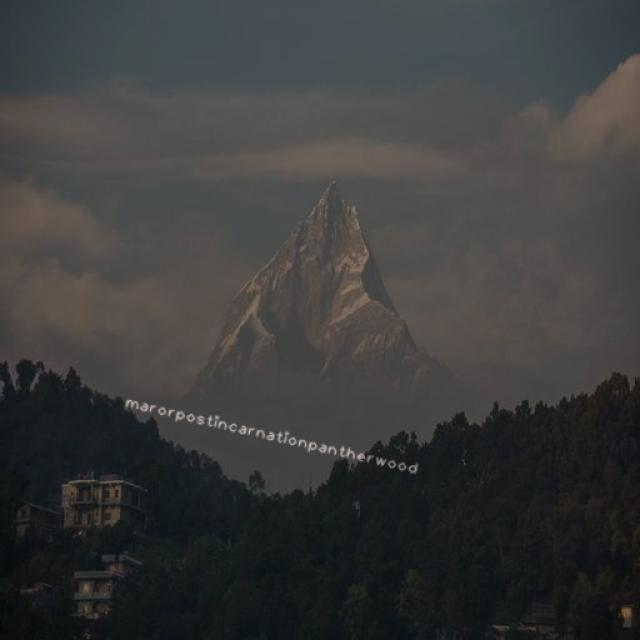watermark: (119, 394, 427, 476)
